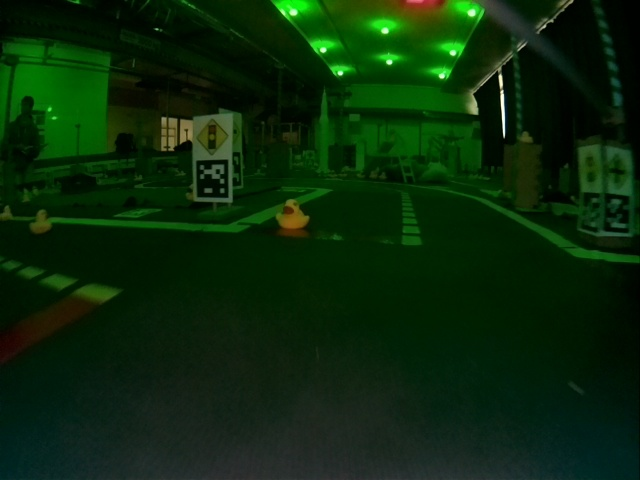Duckie: (276, 199, 309, 227), (30, 210, 52, 234), (521, 131, 533, 143)
Intersection sign: (604, 150, 630, 191)
QR code: (195, 160, 230, 198), (606, 192, 630, 234), (579, 190, 601, 234), (115, 209, 162, 217)
Signal sign: (196, 117, 229, 156)
